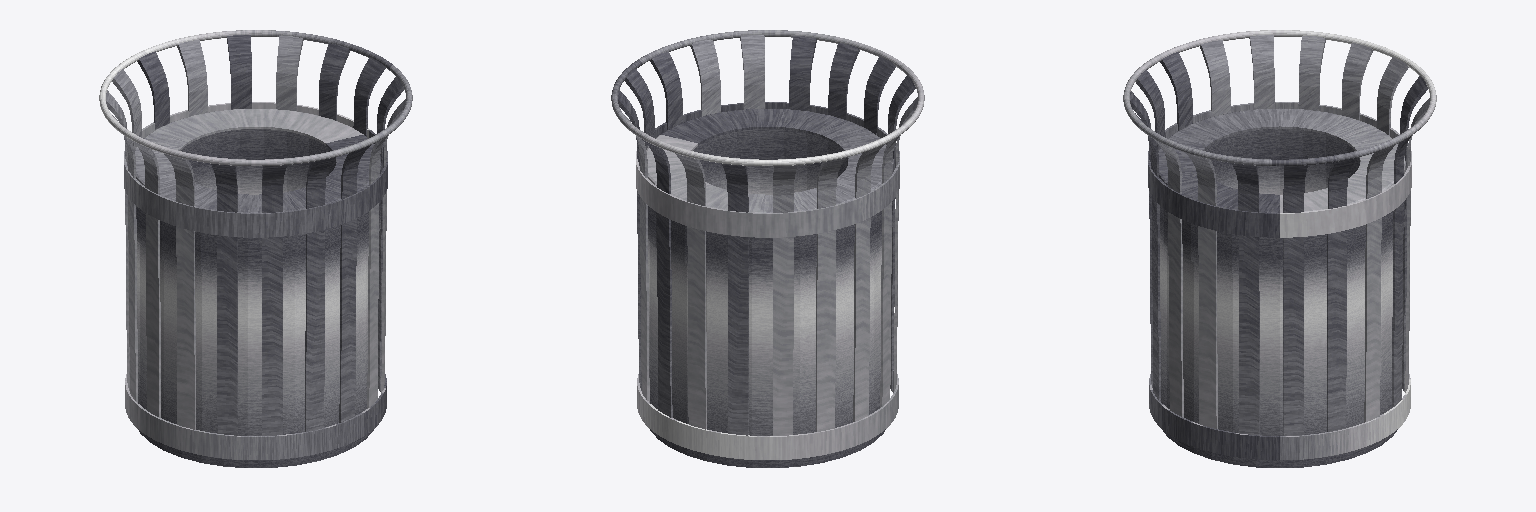
The picture shows the model from 3 angles: view 1: azimuth 30°, elevation 25°; view 2: azimuth 150°, elevation 25°; view 3: azimuth 270°, elevation 25°; orthographic projection.
Visible parts, largest first — view 1: Trashcan_Exterior_Circle_022, Inside_Can_Circle_004; view 2: Trashcan_Exterior_Circle_022, Inside_Can_Circle_004; view 3: Trashcan_Exterior_Circle_022, Inside_Can_Circle_004.
Boxes of the visible parts, x1,y1,x2,y2 form: Trashcan_Exterior_Circle_022: [99, 30, 412, 459]; Inside_Can_Circle_004: [136, 129, 380, 467]; Trashcan_Exterior_Circle_022: [611, 30, 924, 459]; Inside_Can_Circle_004: [648, 129, 892, 467]; Trashcan_Exterior_Circle_022: [1123, 30, 1436, 459]; Inside_Can_Circle_004: [1160, 129, 1404, 467].
Size of the model in its own units: 19.61 by 22.22 by 19.61.
1 materials, 1 textured.